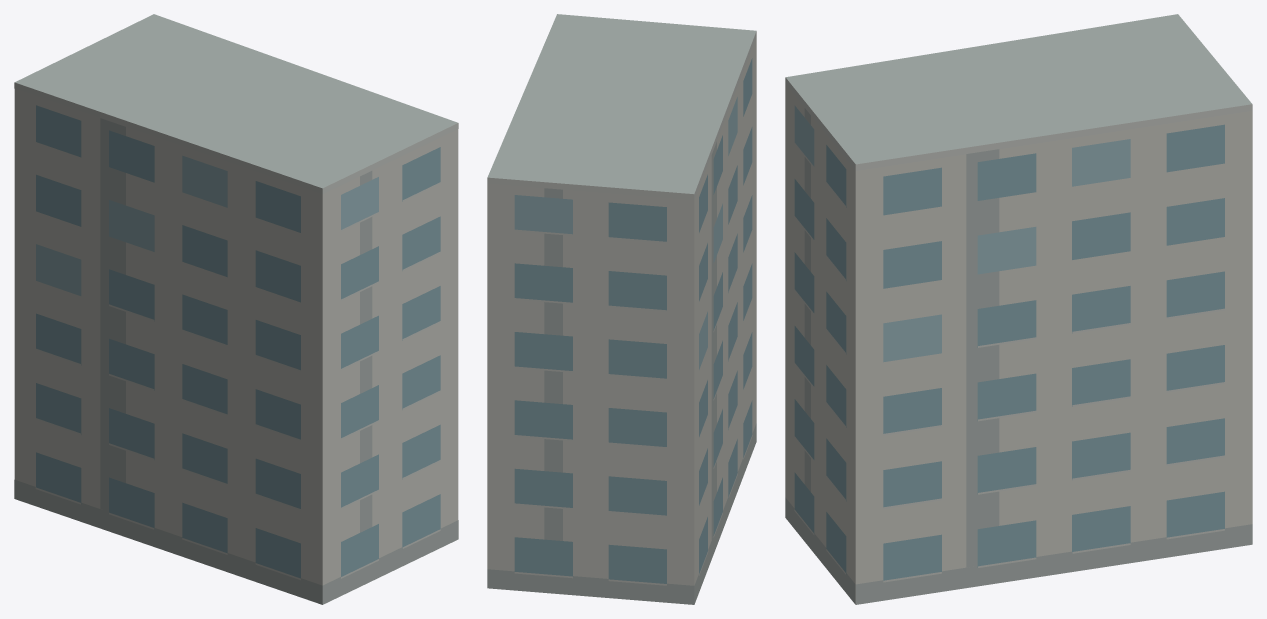
The model's file is survey-upis-32759796.glb.
3 renders of one model, left to right at view 1: azimuth 30°, elevation 25°; view 2: azimuth 150°, elevation 25°; view 3: azimuth 270°, elevation 25°, orthographic. The views are drawn at different scales.
Parts seen in each view (by area): view 1: survey-upis-32759796.tmp; view 2: survey-upis-32759796.tmp; view 3: survey-upis-32759796.tmp.
Boxes of the visible parts, <box> form: survey-upis-32759796.tmp: <box>14,14,458,604</box>; survey-upis-32759796.tmp: <box>487,14,756,604</box>; survey-upis-32759796.tmp: <box>785,14,1252,604</box>.
Size of the model in its own units: 12.17 by 16.6 by 15.96.
